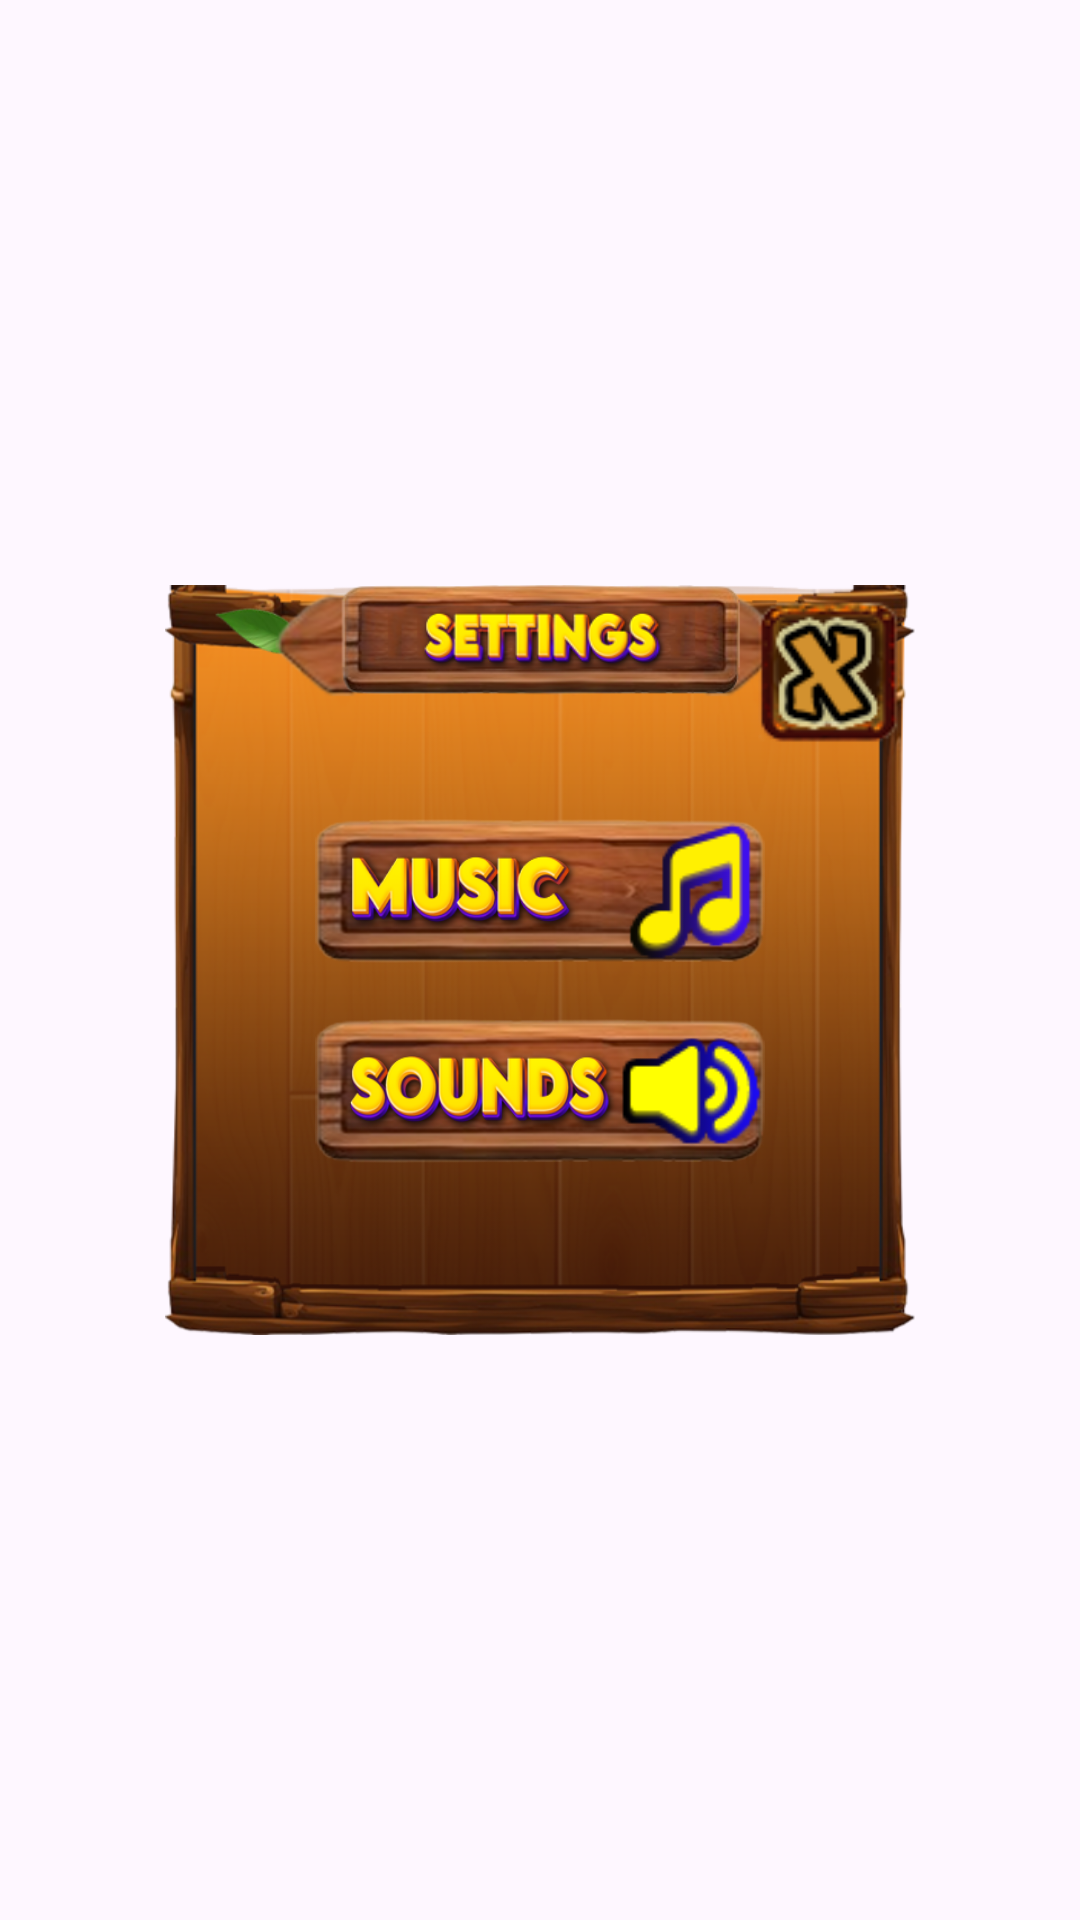

Named icons in this screenshot (1080px×1920px) and their centers, [x,y]:
close: [828,672]
